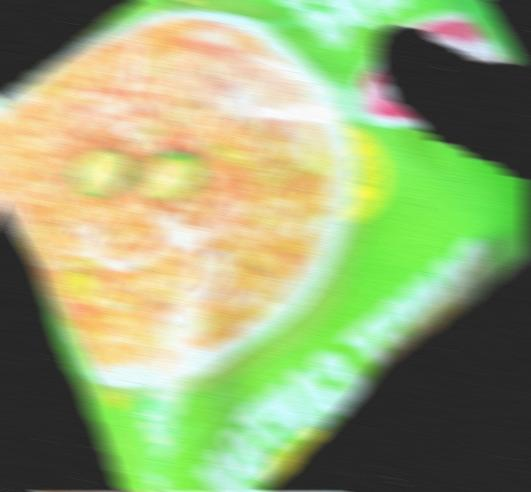loaded: (36, 490, 371, 492)
pancit canton calamansi: (0, 0, 530, 492)
